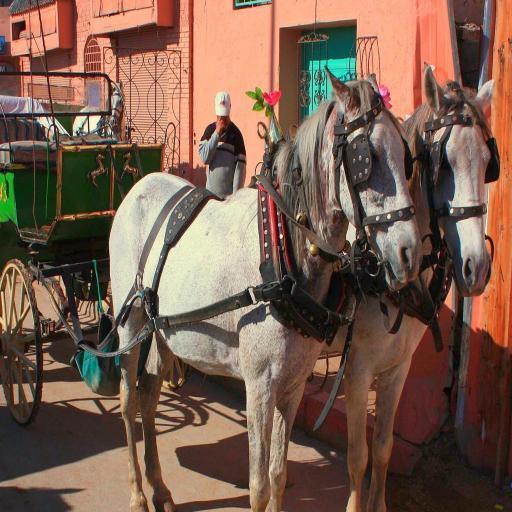horse: (106, 68, 424, 512), (320, 66, 494, 512)
